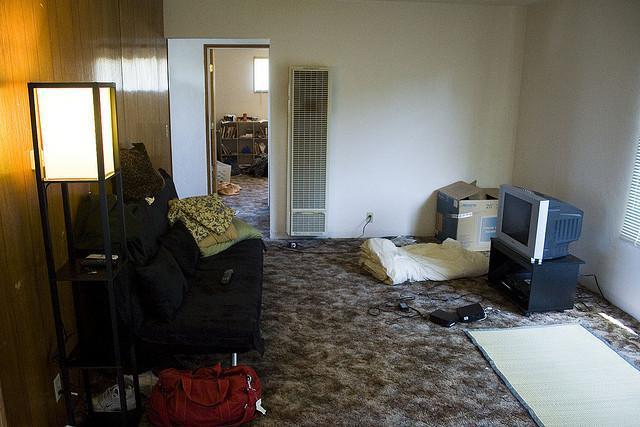tv: (489, 180, 593, 268)
